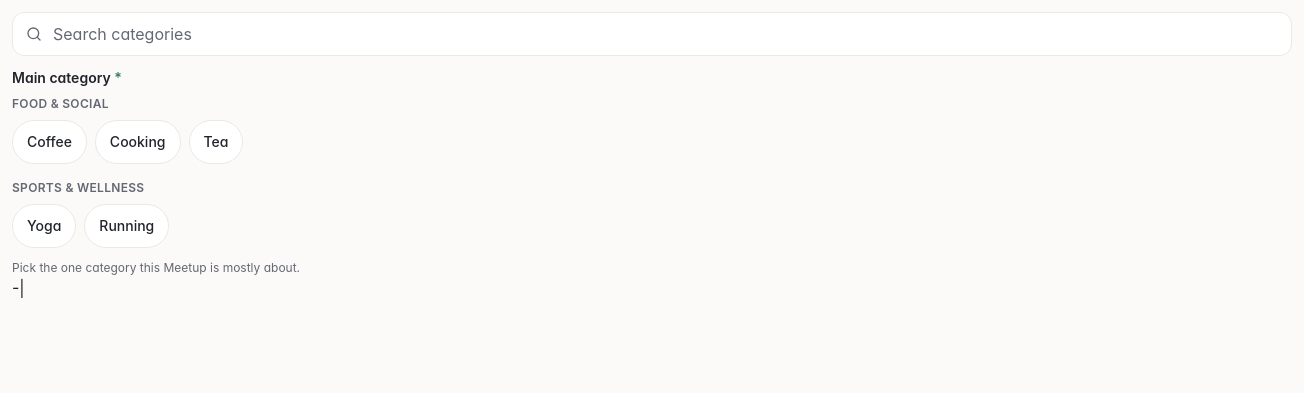
Test: MeetupInterestPicker › prevents the primary interest from being duplicated as additional
Click the button "Coffee". click: (49, 142)
box: left=12, top=120, right=87, bottom=164
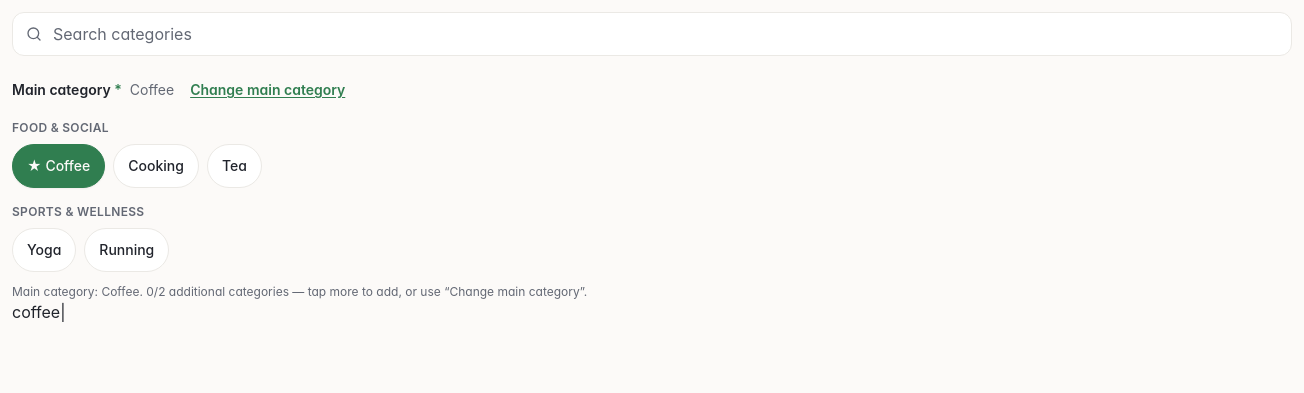
Click the button with aria-label "Coffee (main category)". click: (59, 166)
box: left=12, top=144, right=105, bottom=188
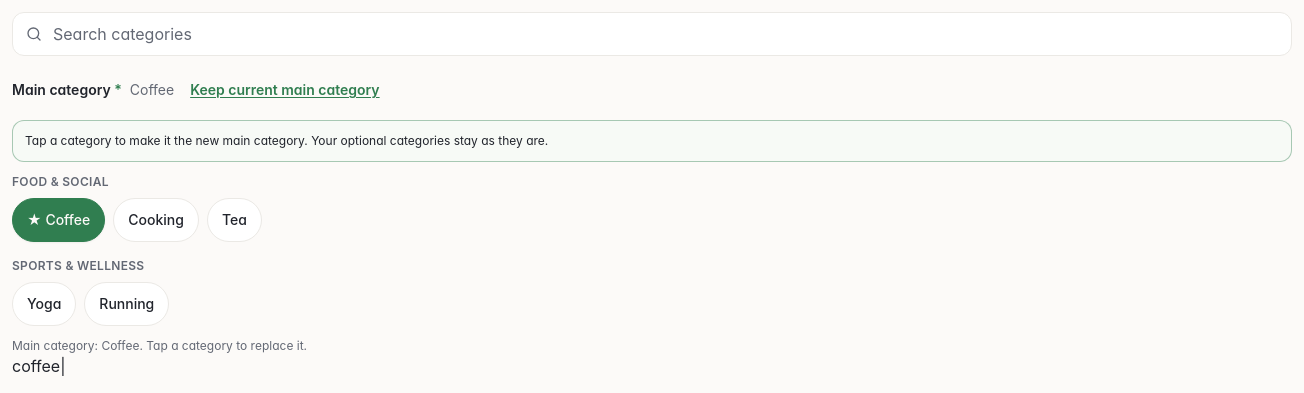
Expected: the text with test id "state" reads "coffee|", left=12, top=356, right=66, bottom=376
# and the replacement tap swaps only the main category
Click the button "Yoga". click: (44, 304)
box: left=12, top=282, right=76, bottom=326
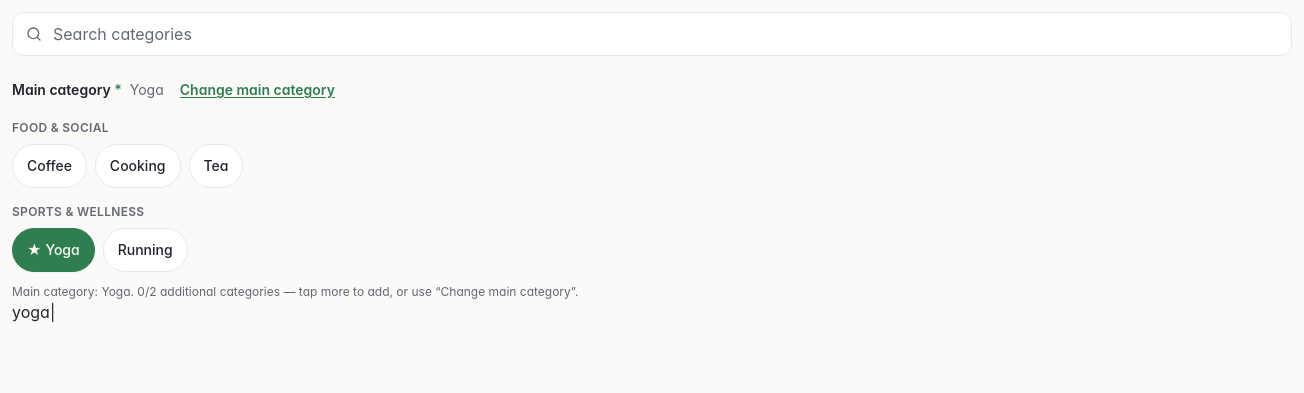
Expected: the text with test id "state" reads "yoga|", left=12, top=302, right=55, bottom=322
